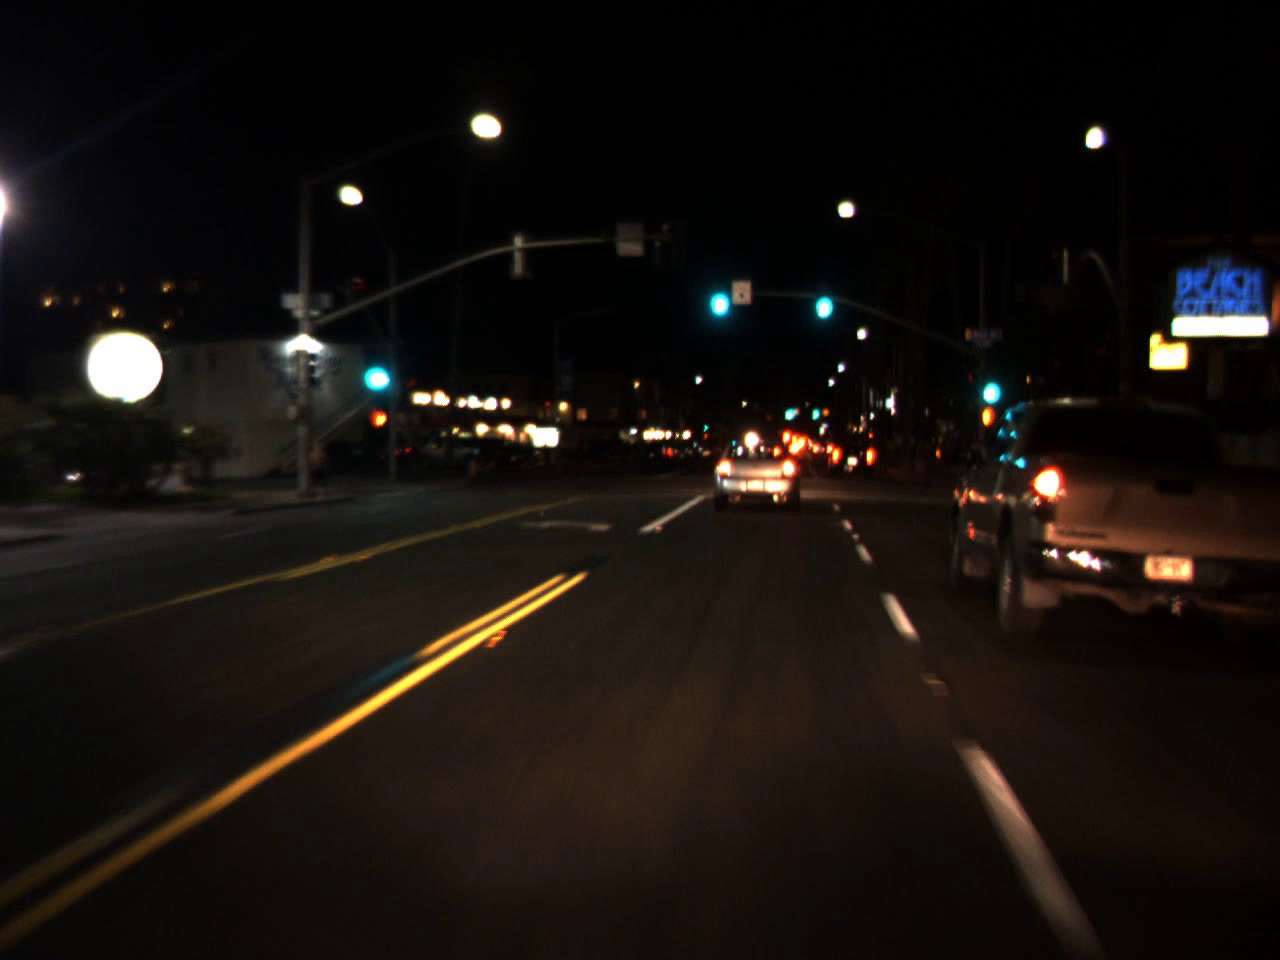go: (353, 335, 396, 401), (702, 262, 734, 325), (976, 355, 1004, 412), (808, 272, 836, 323), (782, 398, 796, 422), (808, 396, 820, 423), (702, 418, 709, 433)
